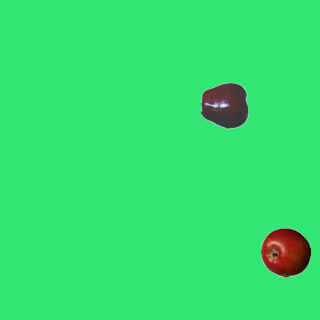Apple Braeburn: (260, 227, 310, 277)
Apple Red Delicious: (200, 80, 250, 130)
